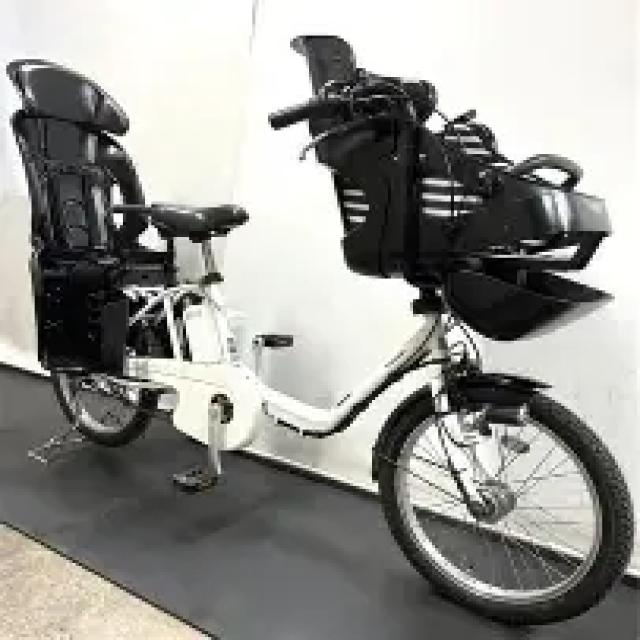battery: (185, 300, 219, 370)
childseat: (288, 39, 618, 348), (4, 57, 176, 368)
